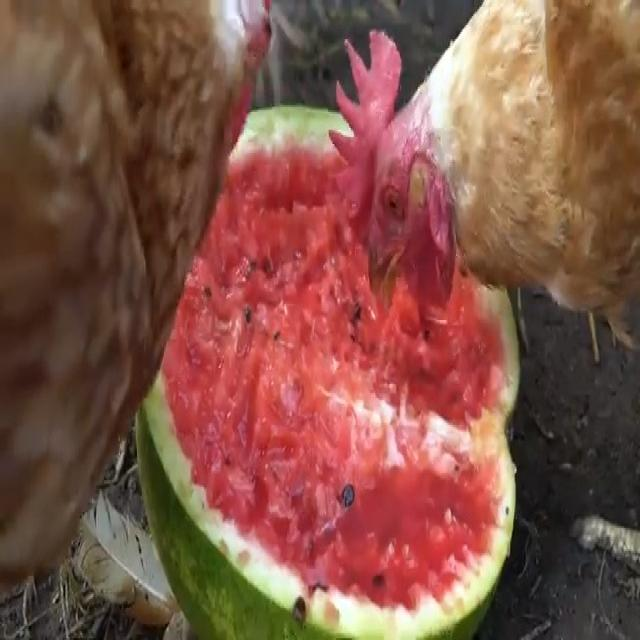feeding: (323, 7, 640, 334)
